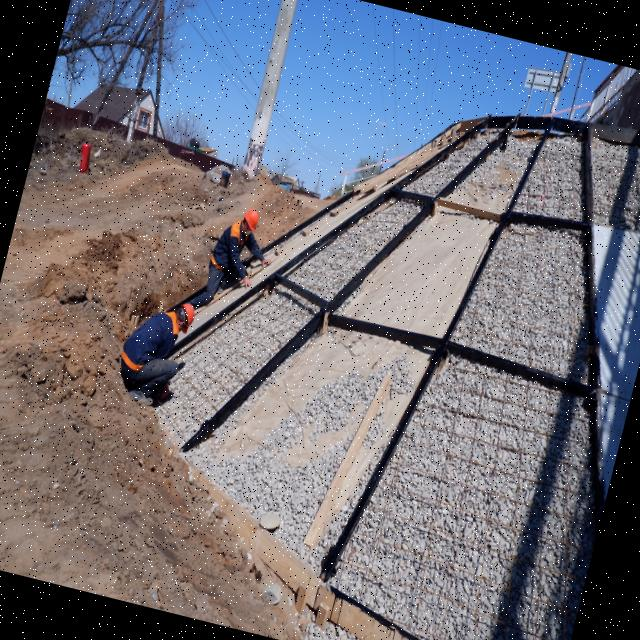Helmet: (173, 300, 198, 338), (239, 208, 262, 236)
NoJacket: (125, 312, 178, 376), (215, 221, 250, 271)
